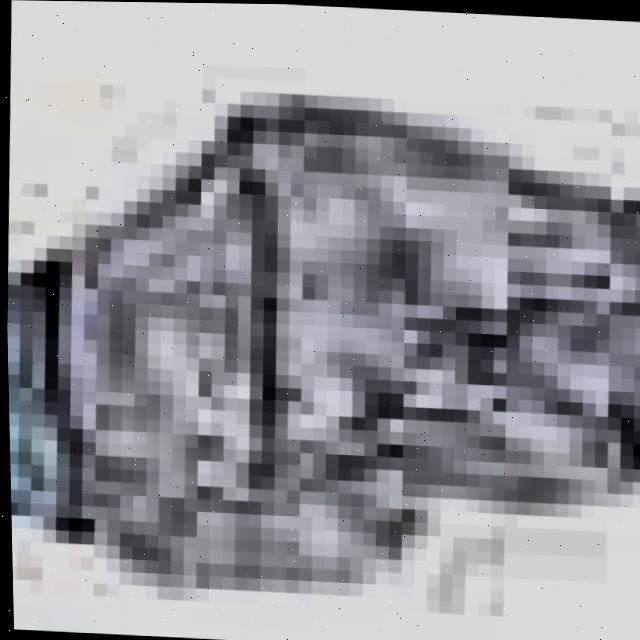plastic: (0, 0, 640, 607)
